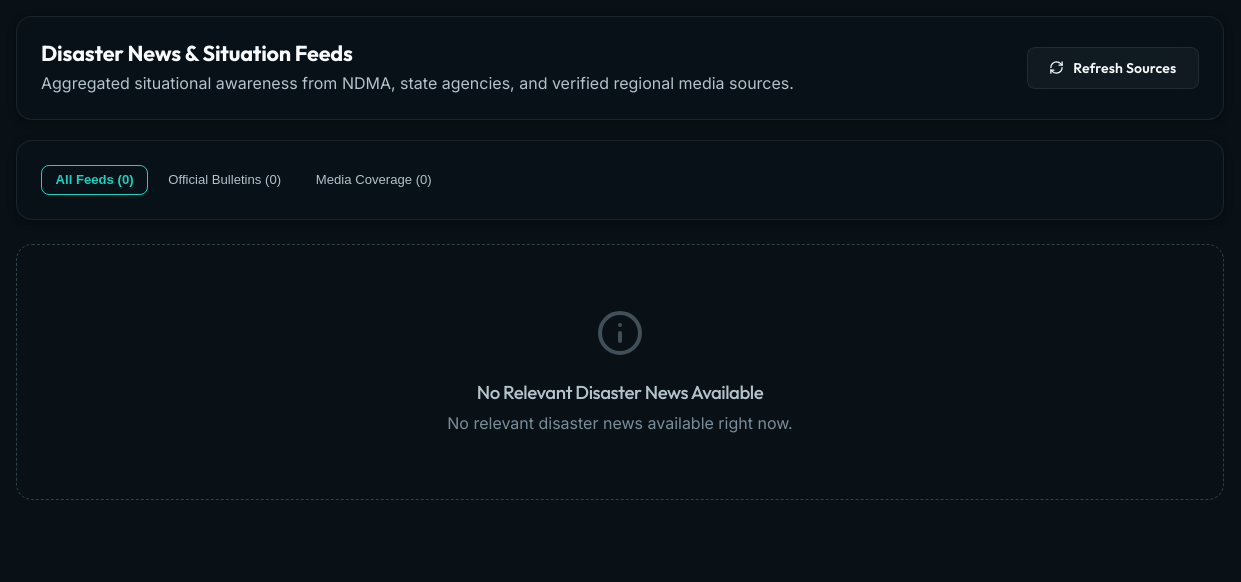
Test: News.jsx — Refresh Sources button public accessibility for everyone › shows truthful cooldown message when backend reports cached refresh
Click the button "Refresh Sources". click: point(1113, 68)
box: [1027,47,1199,89]
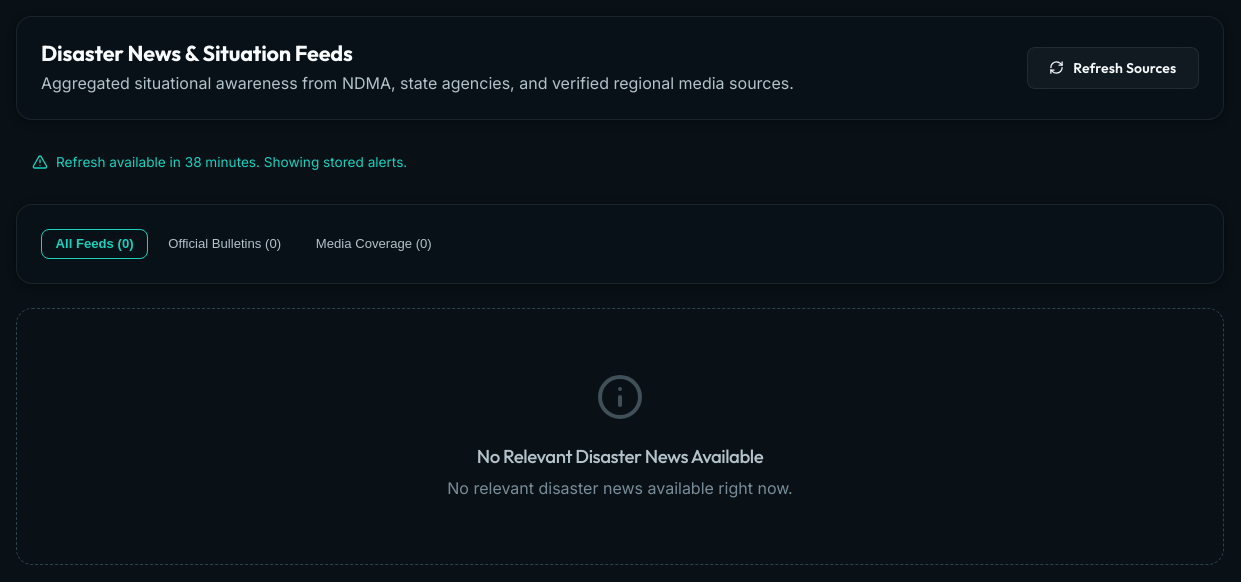
Check: the text "Refresh available in 38 minutes. Showing stored alerts." is shown, box [56,152,407,172]
